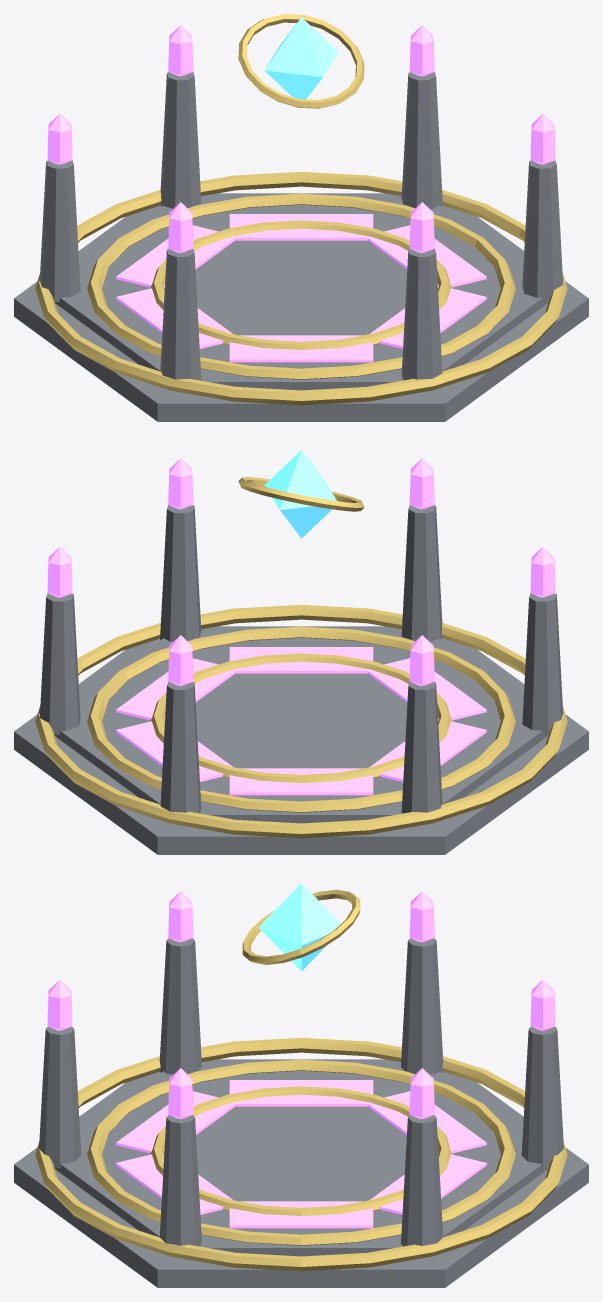
The model's file is pickups-and-collectibles-spawner-pad-large-8b3ecadc__19986.glb.
The picture shows the model from 3 angles, top to bottom: view 1: azimuth 30°, elevation 25°; view 2: azimuth 150°, elevation 25°; view 3: azimuth 270°, elevation 25°; orthographic projection.
Parts seen in each view (by area): view 1: base/iron, ring/gold, base/arcane, core/gem, core/gold; view 2: base/iron, ring/gold, base/arcane, core/gem, core/gold; view 3: base/iron, ring/gold, base/arcane, core/gem, core/gold.
Part boxes in pixels (bbox=[...]): base/iron: bbox=[14, 72, 588, 421]; ring/gold: bbox=[35, 171, 567, 405]; base/arcane: bbox=[47, 25, 555, 362]; core/gem: bbox=[264, 17, 338, 99]; core/gold: bbox=[238, 14, 364, 108]; base/iron: bbox=[14, 505, 588, 854]; ring/gold: bbox=[35, 604, 567, 838]; base/arcane: bbox=[47, 458, 555, 795]; core/gem: bbox=[264, 450, 336, 538]; core/gold: bbox=[238, 477, 364, 511]; base/iron: bbox=[14, 938, 588, 1287]; ring/gold: bbox=[35, 1037, 567, 1271]; base/arcane: bbox=[47, 891, 555, 1228]; core/gem: bbox=[258, 883, 340, 971]; core/gold: bbox=[242, 889, 360, 964].
Bounding box in the file's own units: 1.85 × 1.15 × 2.
